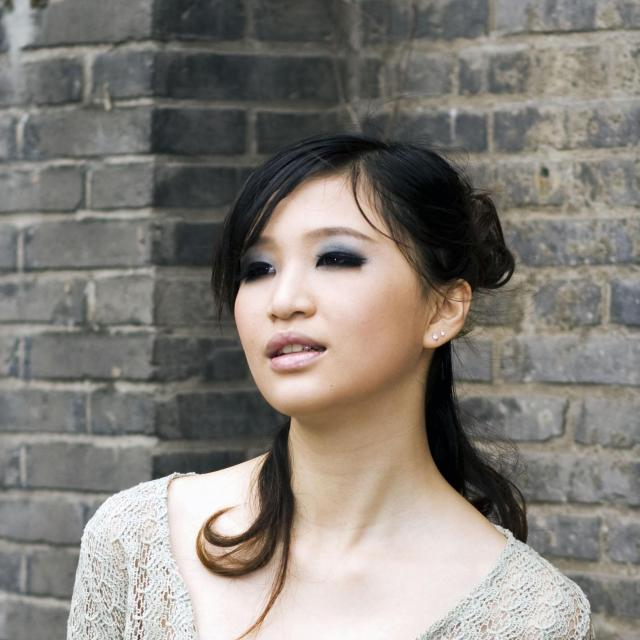no-glass: (231, 246, 373, 292)
